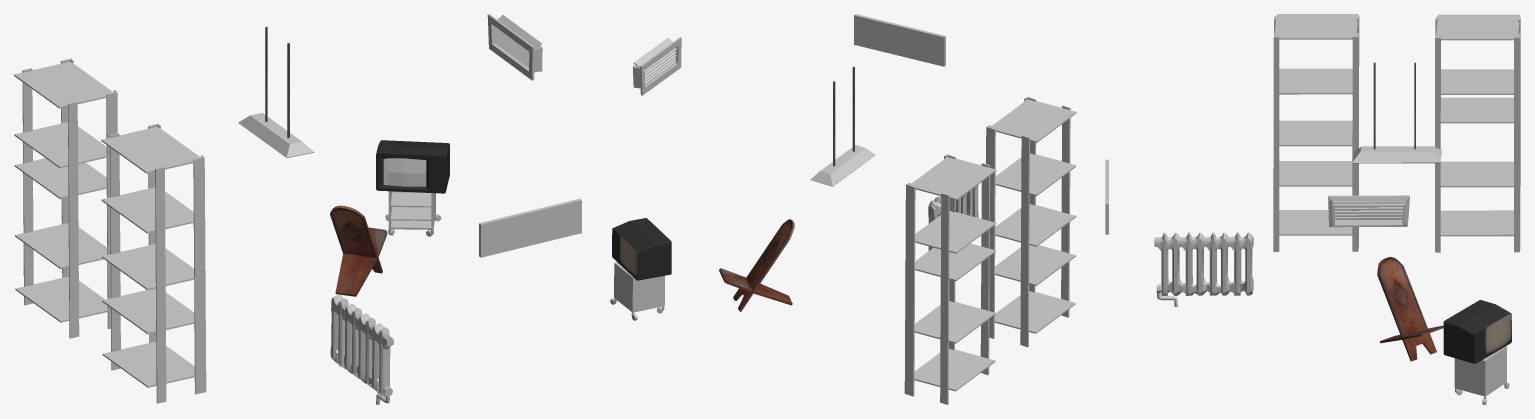
File: SM_Scene_A_furniture00.fbx
3 renders of one model, left to right at view 1: azimuth 30°, elevation 25°; view 2: azimuth 150°, elevation 25°; view 3: azimuth 270°, elevation 25°, orthographic. The views are drawn at different scales.
Parts seen in each view (by area): view 1: SM_Scene_A_Furniture00; view 2: SM_Scene_A_Furniture00; view 3: SM_Scene_A_Furniture00.
Part boxes in pixels (box(x1,y1,x2,y2)): SM_Scene_A_Furniture00: box(14, 14, 581, 404); SM_Scene_A_Furniture00: box(610, 14, 1076, 404); SM_Scene_A_Furniture00: box(1105, 14, 1520, 404).
Size of the model in its own units: 770 by 476 by 711.
